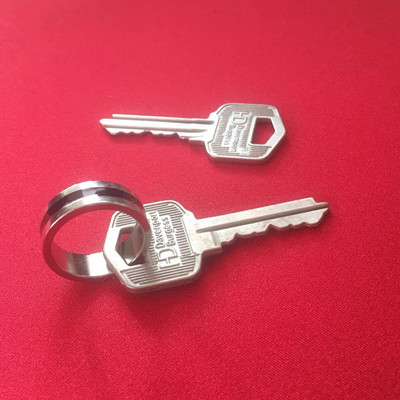key: (92, 196, 344, 297), (92, 83, 291, 176)
